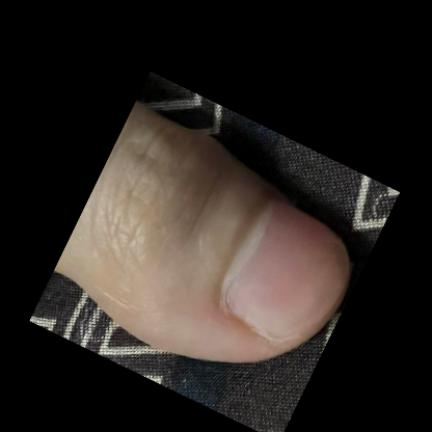Nail: (223, 201, 349, 343)
